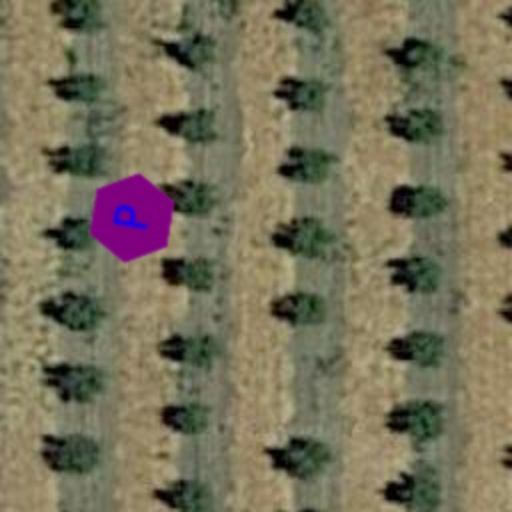hexagon: (78, 164, 186, 272)
